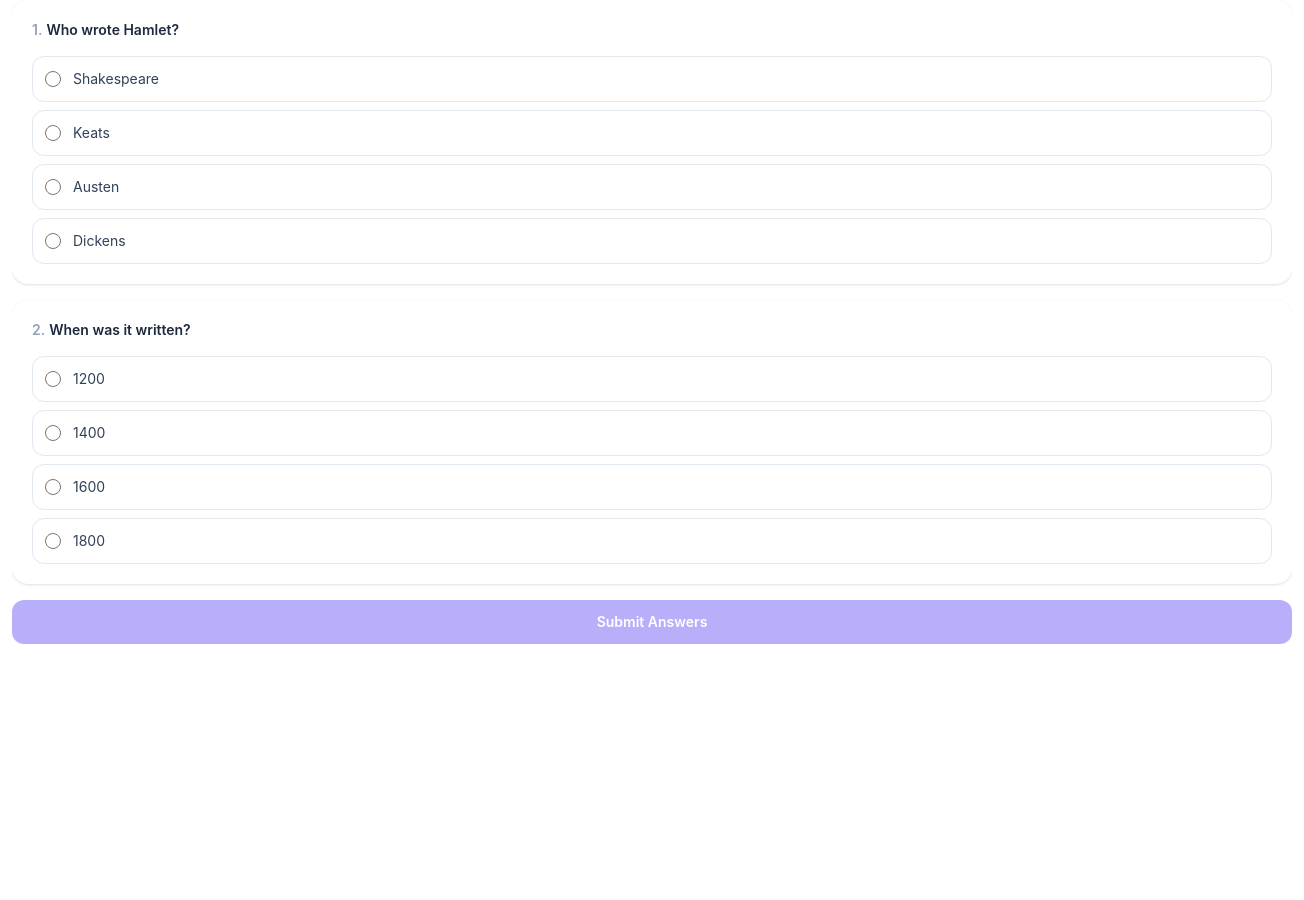
Test: QuizForm › submit button is disabled until all questions answered
Expected: the button "Submit Answers" is disabled, [12, 600, 1292, 644]
// answer only first question
Click the radio button labelled "Shakespeare".
click(53, 79)  # box [45, 71, 61, 87]
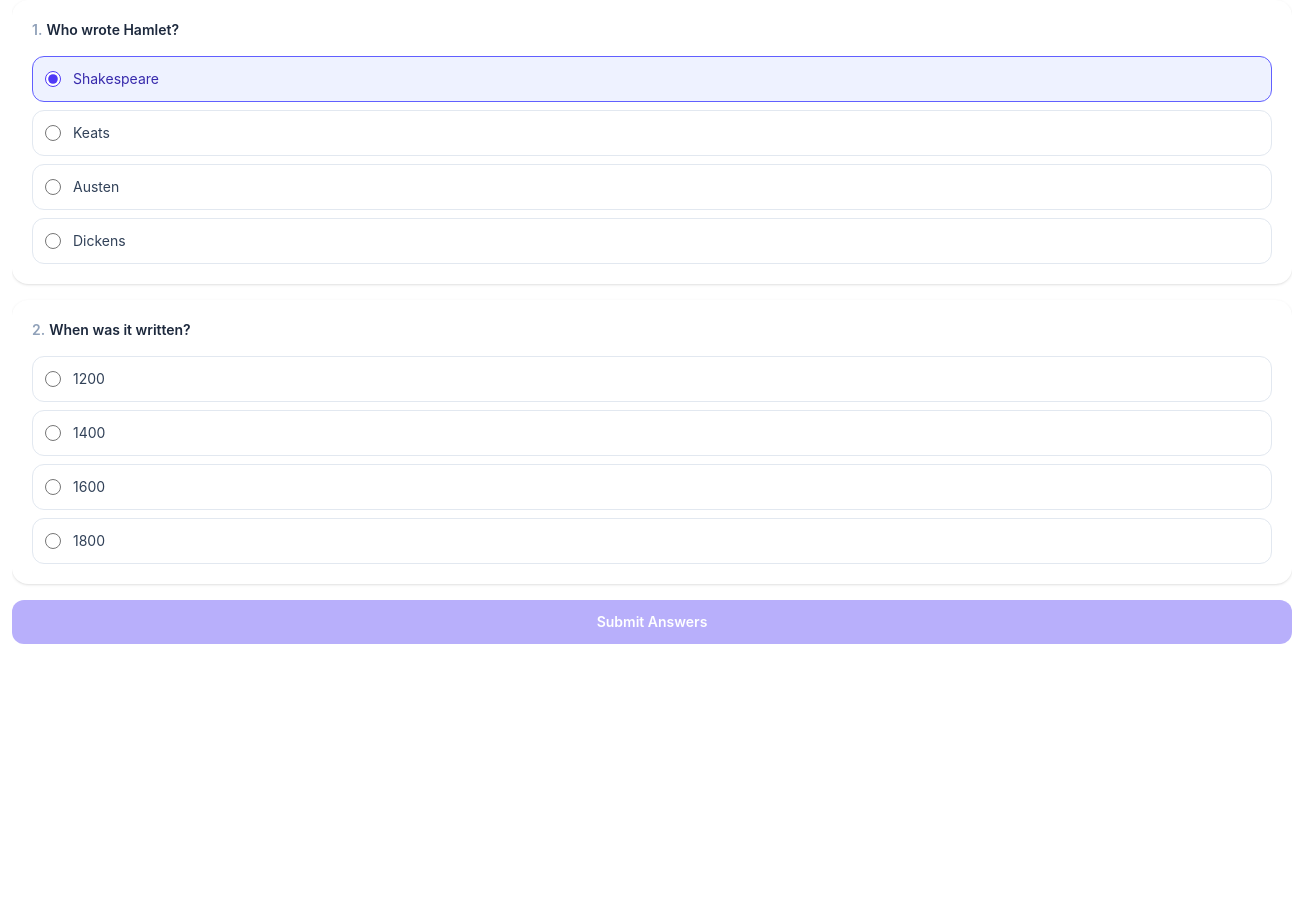
Expected: the button "Submit Answers" is disabled, [12, 600, 1292, 644]
// answer second question → now enabled
Click the radio button labelled "1600".
click(53, 487)  # box [45, 479, 61, 495]
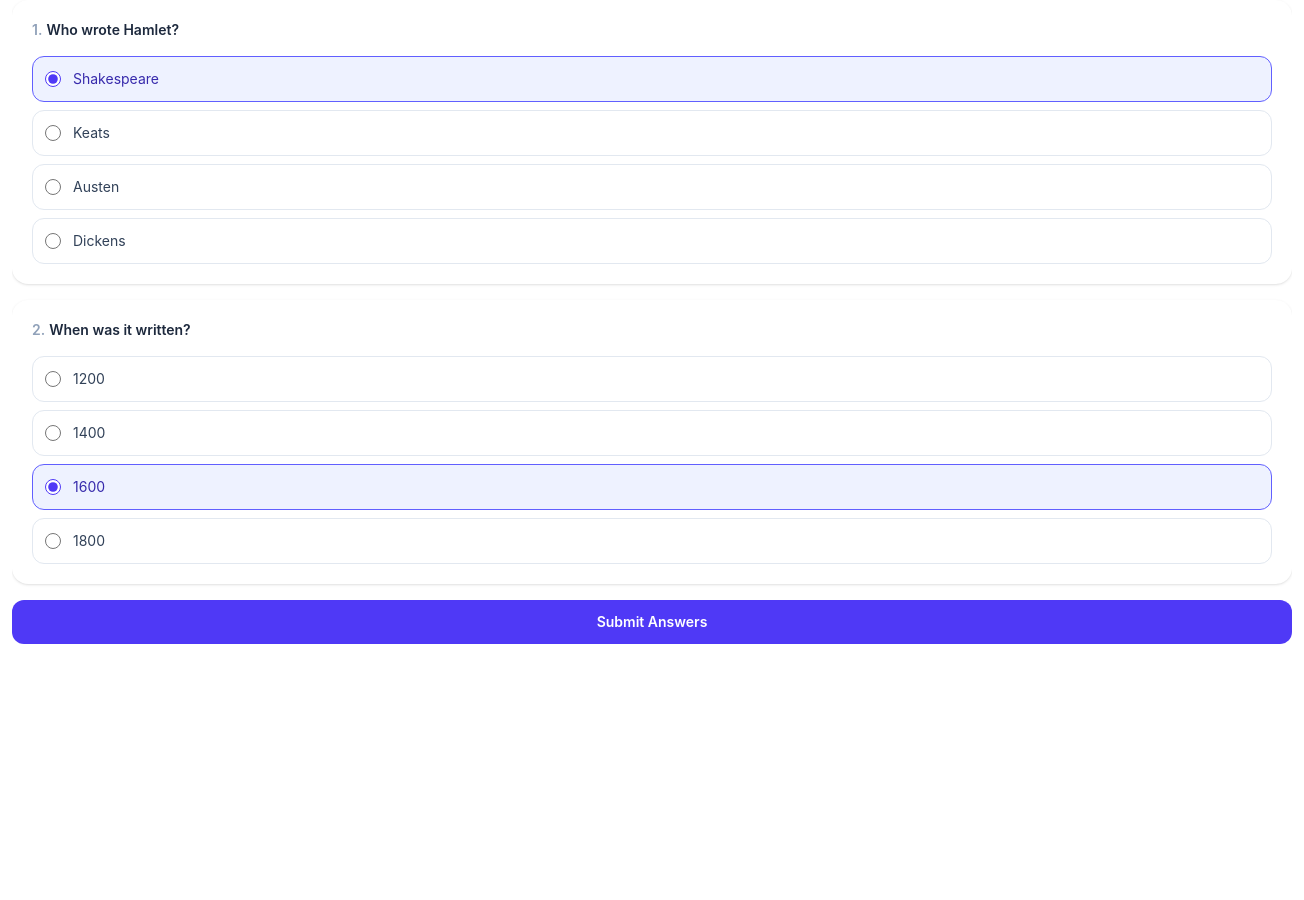
Now the button "Submit Answers" is enabled, box [12, 600, 1292, 644]
